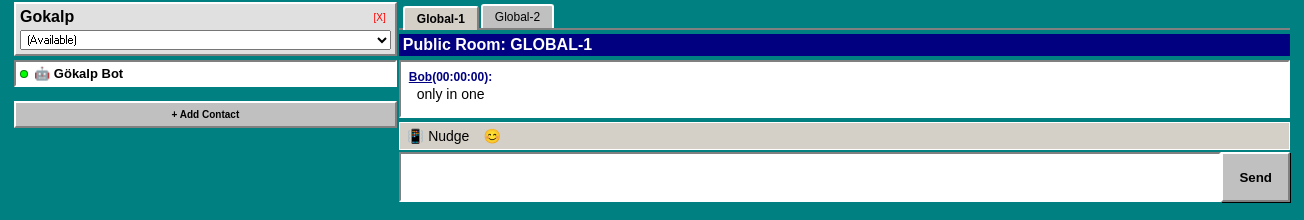
global rooms › switching rooms replaces the visible messages
Expected: the text "only in one" is shown, [417,86,484,102]
What coordinates should you click on to do the following:
click the button "Global-2"
I would click on:
 (518, 16)
Its box is [481,4,554,28].
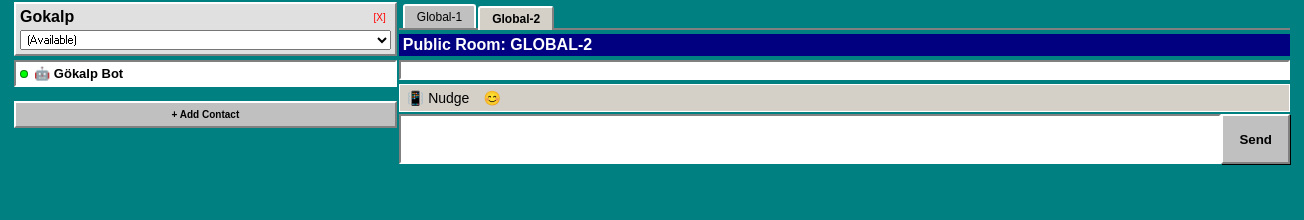
Expected: the text "only in one" is gone
